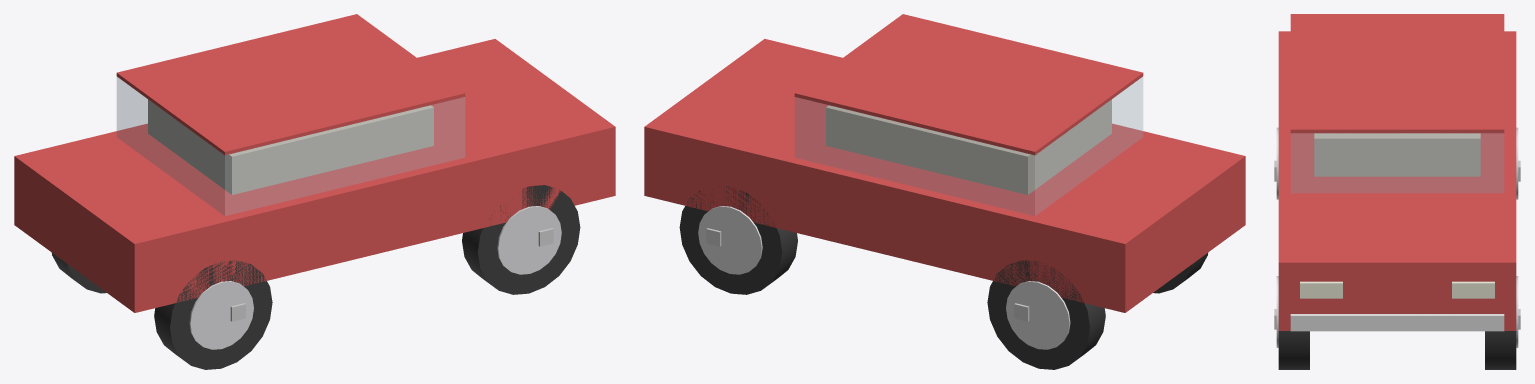
The model's file is de_carModel_nova.glb.
The picture shows the model from 3 angles, left to right: view 1: azimuth 30°, elevation 25°; view 2: azimuth 150°, elevation 25°; view 3: azimuth 270°, elevation 25°; orthographic projection.
Parts seen in each view (by area): view 1: PlaceholderCar; view 2: PlaceholderCar; view 3: PlaceholderCar.
Part boxes in pixels (x1,y1,x2,y2): PlaceholderCar: (14,14,615,369); PlaceholderCar: (644,14,1245,369); PlaceholderCar: (1274,14,1520,369).
Size of the model in its own units: 4.24 by 1.75 by 1.89.
